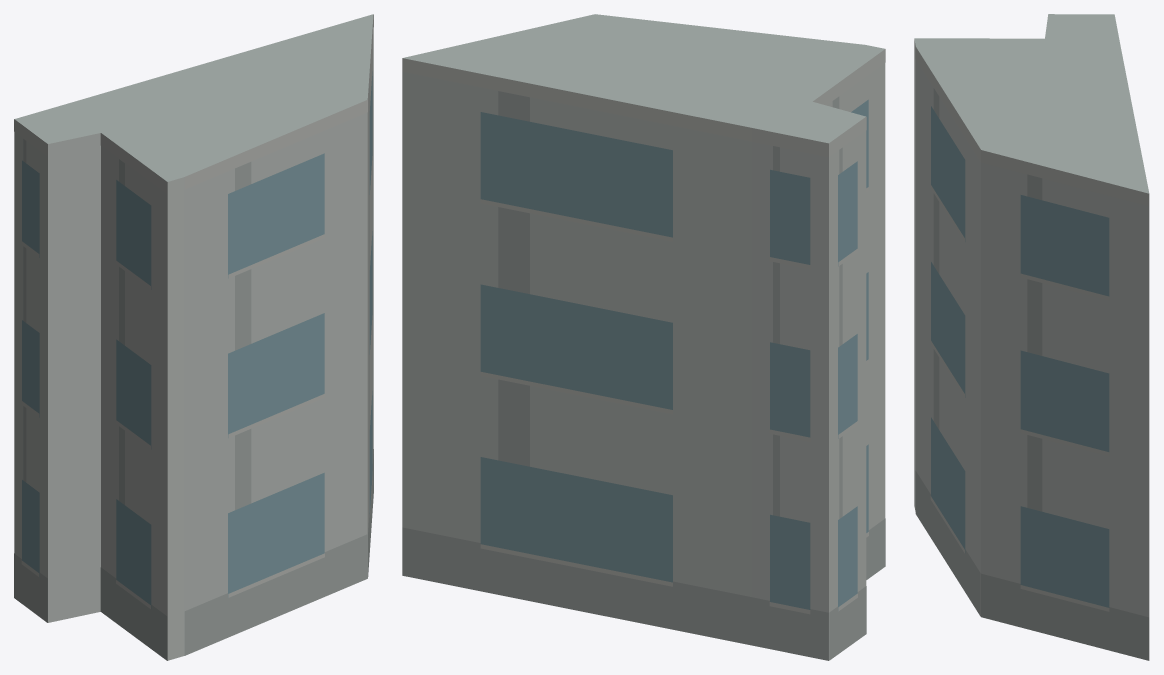
Rendered from survey-upis-32542899.glb.
The picture shows the model from 3 angles, left to right: view 1: azimuth 30°, elevation 25°; view 2: azimuth 150°, elevation 25°; view 3: azimuth 270°, elevation 25°; orthographic projection. The views are drawn at different scales.
Visible parts, largest first — view 1: survey-upis-32542899.tmp; view 2: survey-upis-32542899.tmp; view 3: survey-upis-32542899.tmp.
Part boxes in pixels (<box>): survey-upis-32542899.tmp: <box>14,14,373,660</box>; survey-upis-32542899.tmp: <box>402,14,885,660</box>; survey-upis-32542899.tmp: <box>914,14,1149,660</box>.
Bounding box in the file's own units: 7.56 × 9.15 × 4.18.
